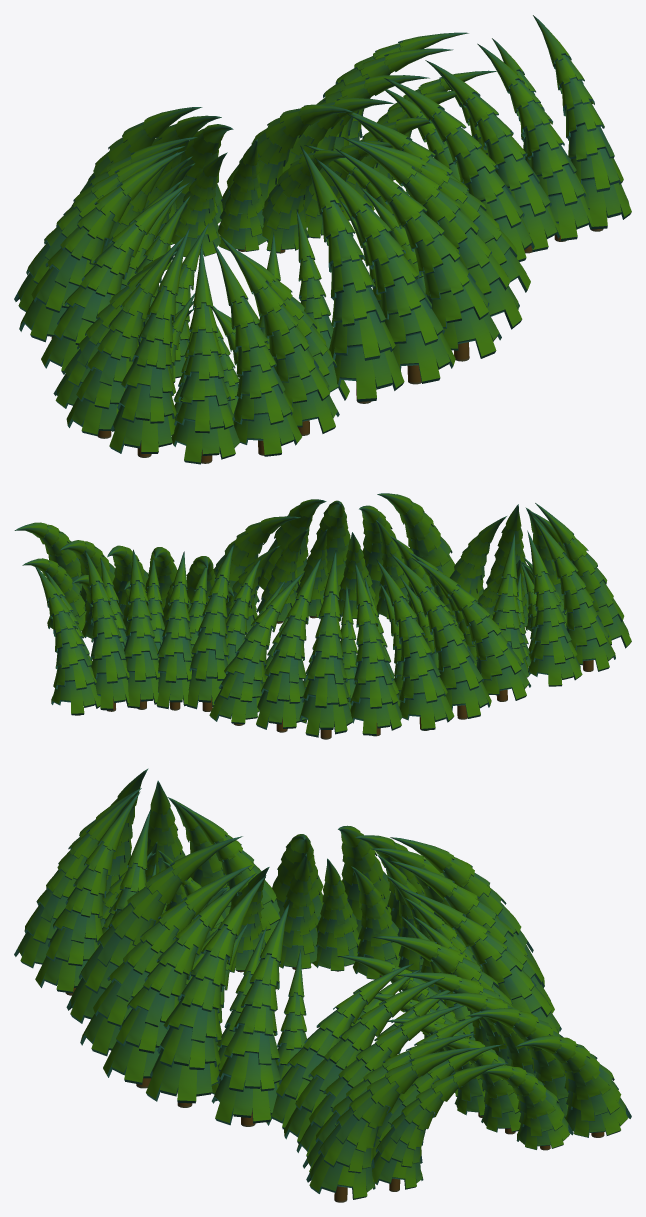
The model's file is Trees.fbx.
3 renders of one model, top to bottom at view 1: azimuth 30°, elevation 25°; view 2: azimuth 150°, elevation 25°; view 3: azimuth 270°, elevation 25°, orthographic. The views are drawn at different scales.
Visible parts, largest first — view 1: Cylinder; view 2: Cylinder; view 3: Cylinder.
Boxes of the visible parts, bbox=[...] form: Cylinder: bbox=[14, 15, 631, 464]; Cylinder: bbox=[14, 493, 631, 739]; Cylinder: bbox=[14, 768, 631, 1202].
Size of the model in its own units: 6433 by 1962 by 5493.
